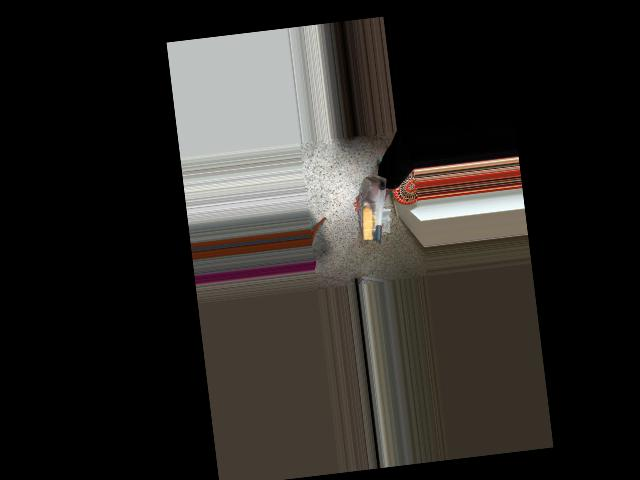cheese: (352, 171, 396, 243)
